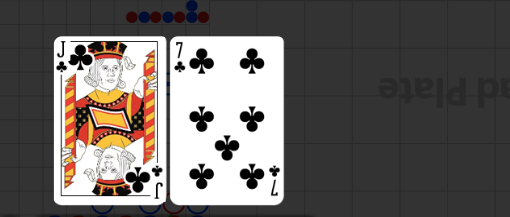7C: (267, 163, 281, 198)
JC: (54, 40, 69, 75)
